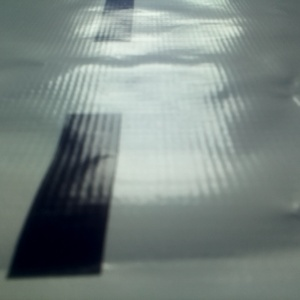bottom_left: (1, 80, 123, 124)
bottom_right: (92, 72, 203, 139)
top_left: (52, 38, 146, 83)
top_right: (115, 47, 209, 91)
